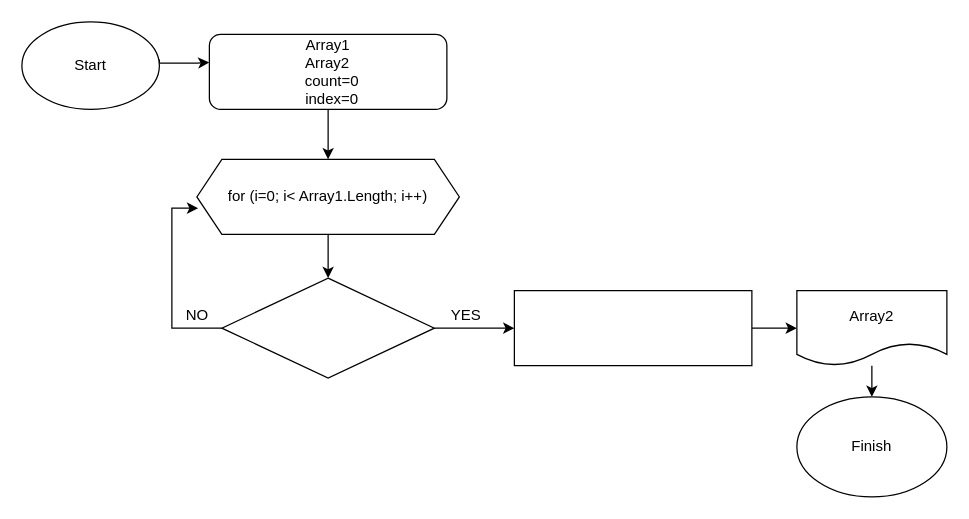
Some shapes in this 969 by 519 pixel diagram are drawn without their labels. The box of each missing label's shape, as (x1, y1, x2, y2) in pixels:
Array2[count]=Array1[i] count++: (513, 289, 752, 366)
if (Array1[i].Length <=3): (221, 277, 434, 378)
